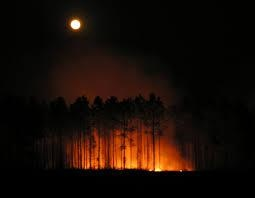fire: (68, 123, 181, 169)
